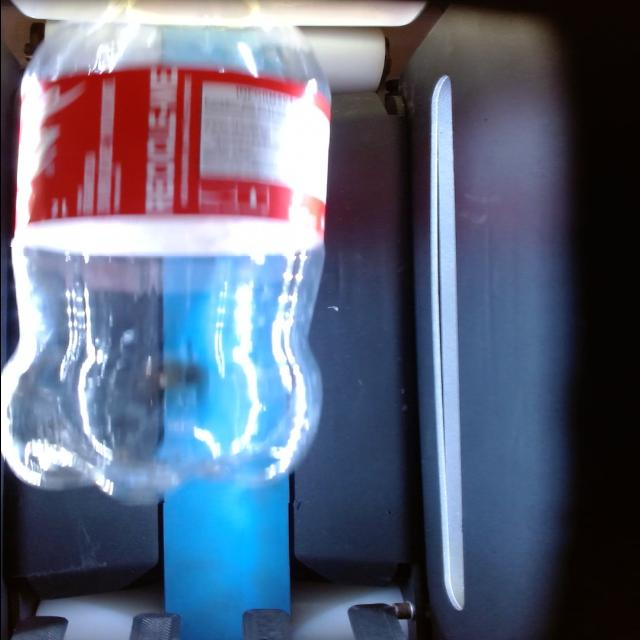bottom: (4, 247, 322, 503)
label: (17, 65, 329, 256)
neck: (21, 0, 329, 99)
